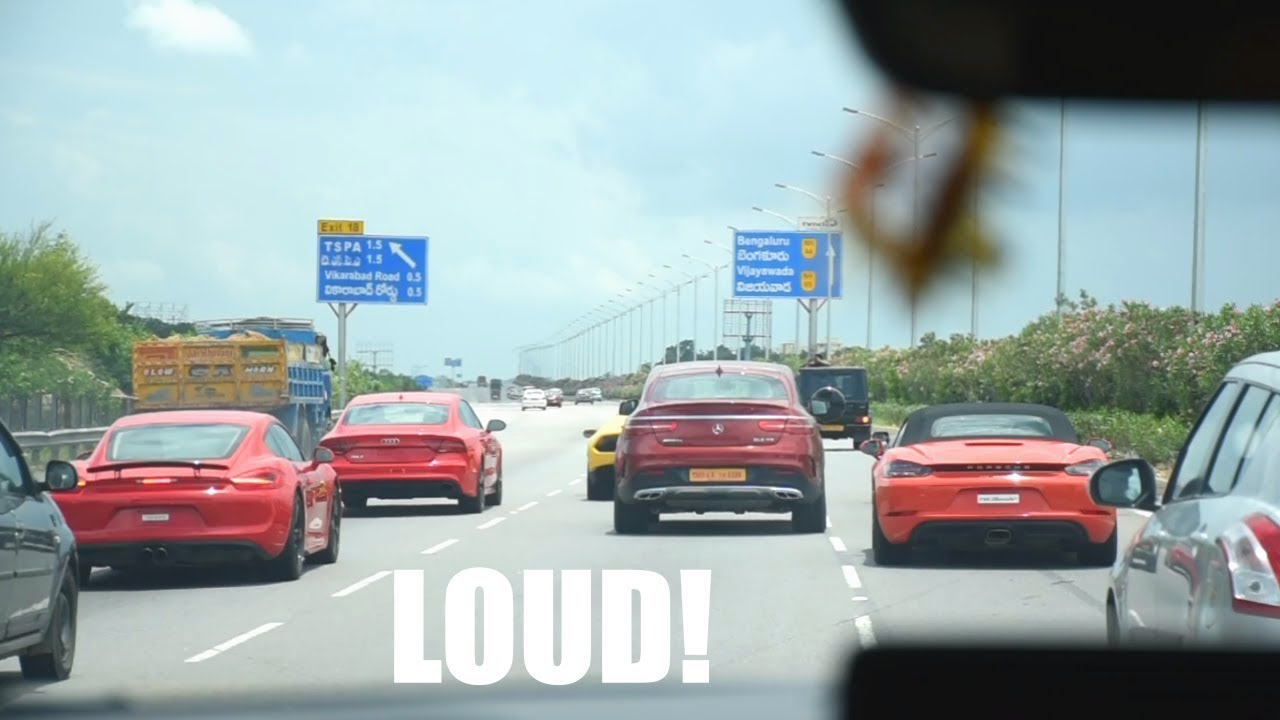Car: (79, 411, 344, 590), (851, 411, 1134, 560), (614, 357, 833, 533), (333, 391, 511, 524)
